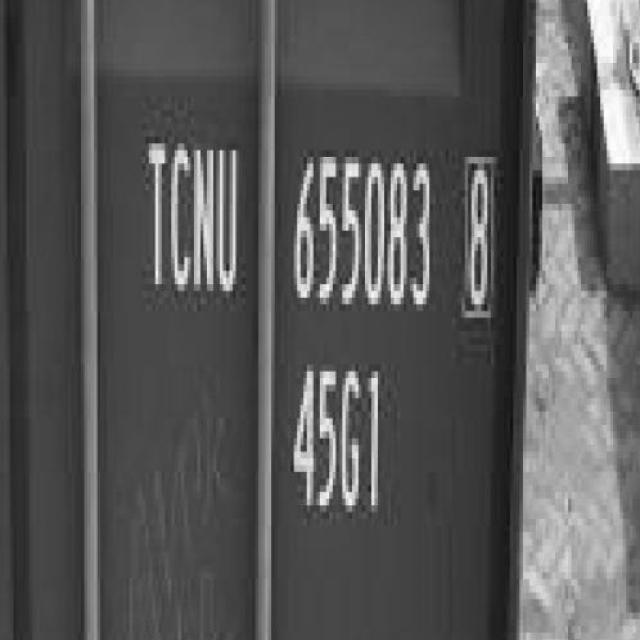dv: (452, 141, 500, 328)
owner: (130, 125, 248, 309)
serial: (285, 143, 441, 320)
size: (285, 360, 397, 524)
